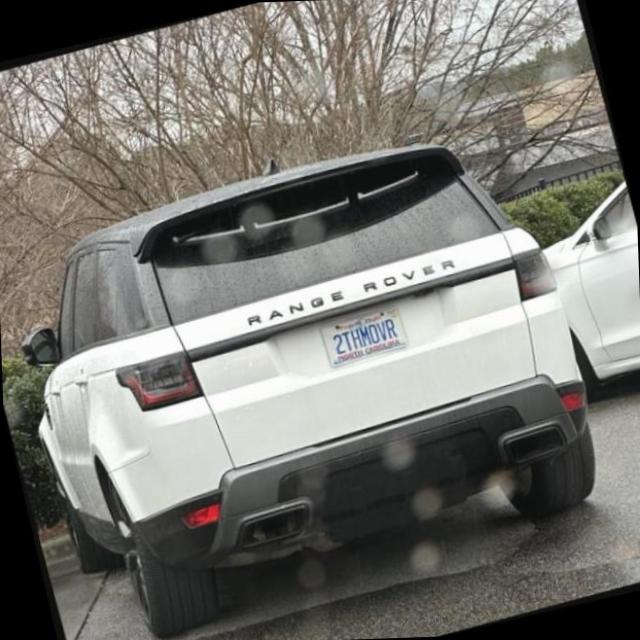LicensePlate: (316, 301, 407, 367)
